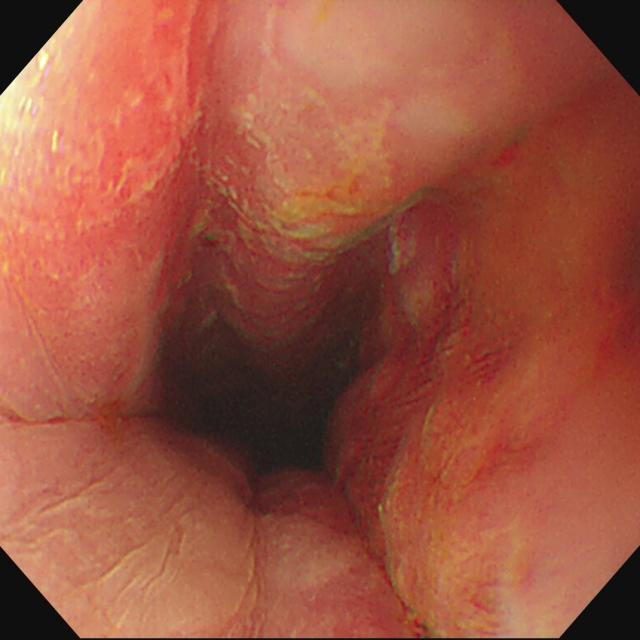A: (341, 259, 533, 589)
E: (235, 382, 324, 462)
J: (193, 94, 395, 265)
